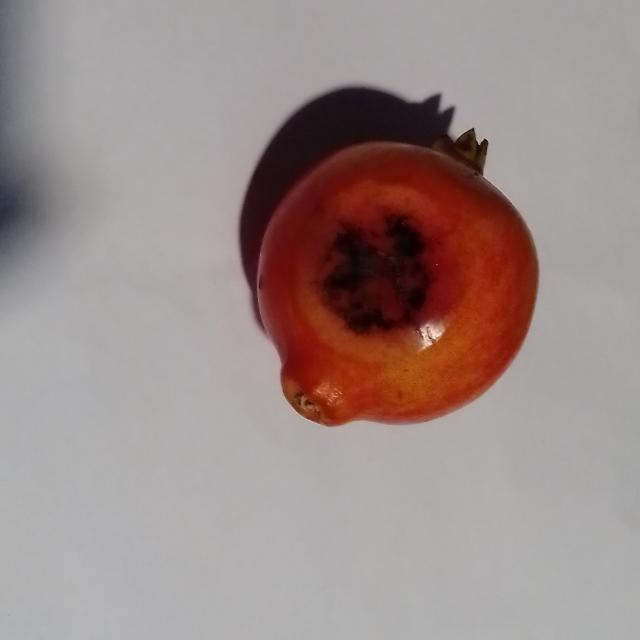Rotten: (253, 113, 542, 432)
